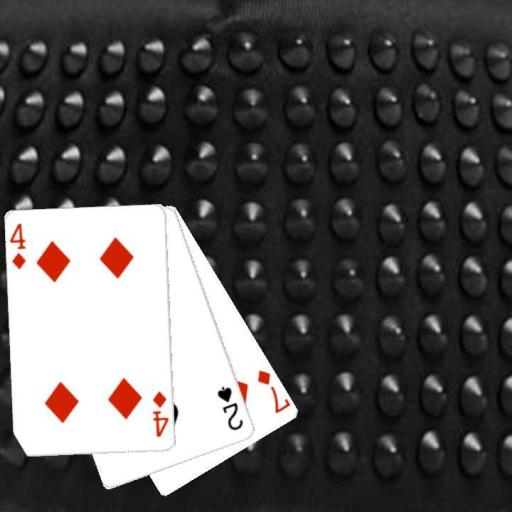2S: (214, 384, 245, 433)
4D: (150, 389, 170, 440), (8, 221, 28, 272)
7D: (254, 367, 291, 416)
